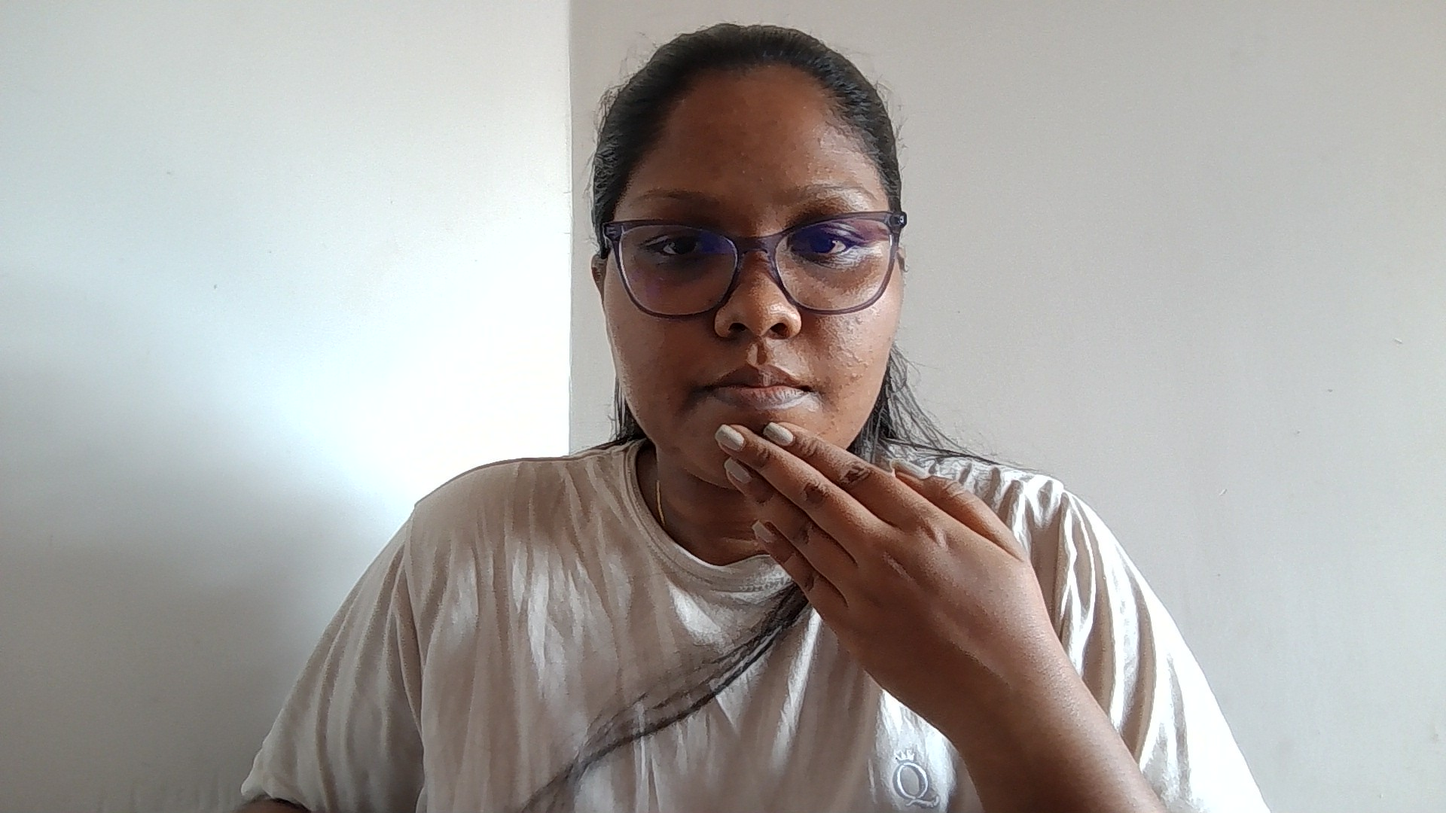Thank You: (646, 406, 1225, 759)
